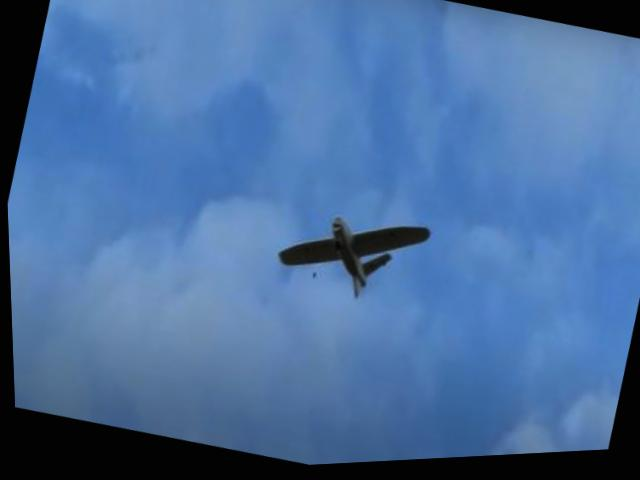uav: (261, 187, 437, 330)
